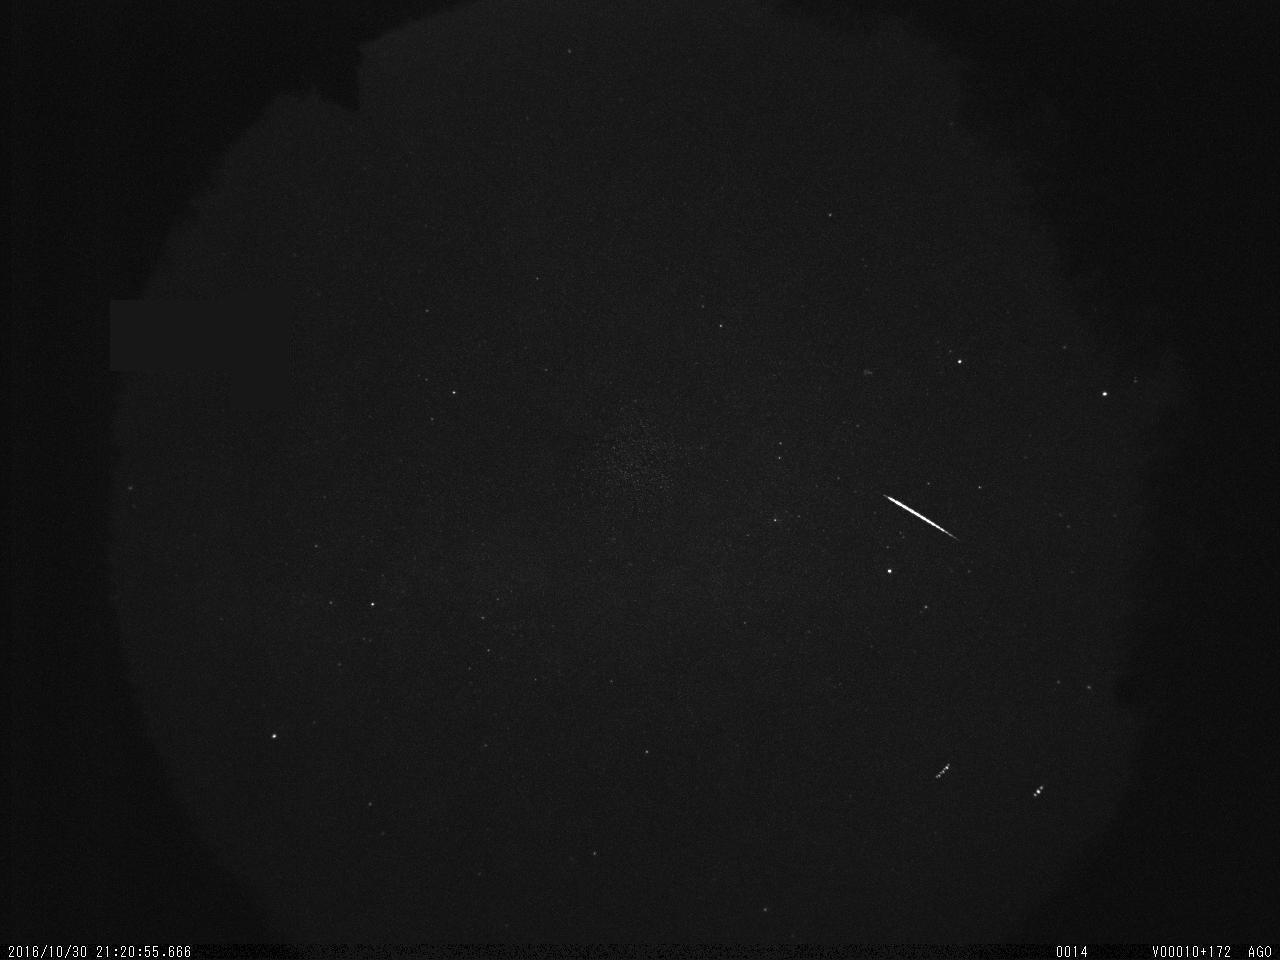Meteor: (881, 492, 959, 543)
